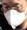with_mask: (2, 1, 27, 30)
